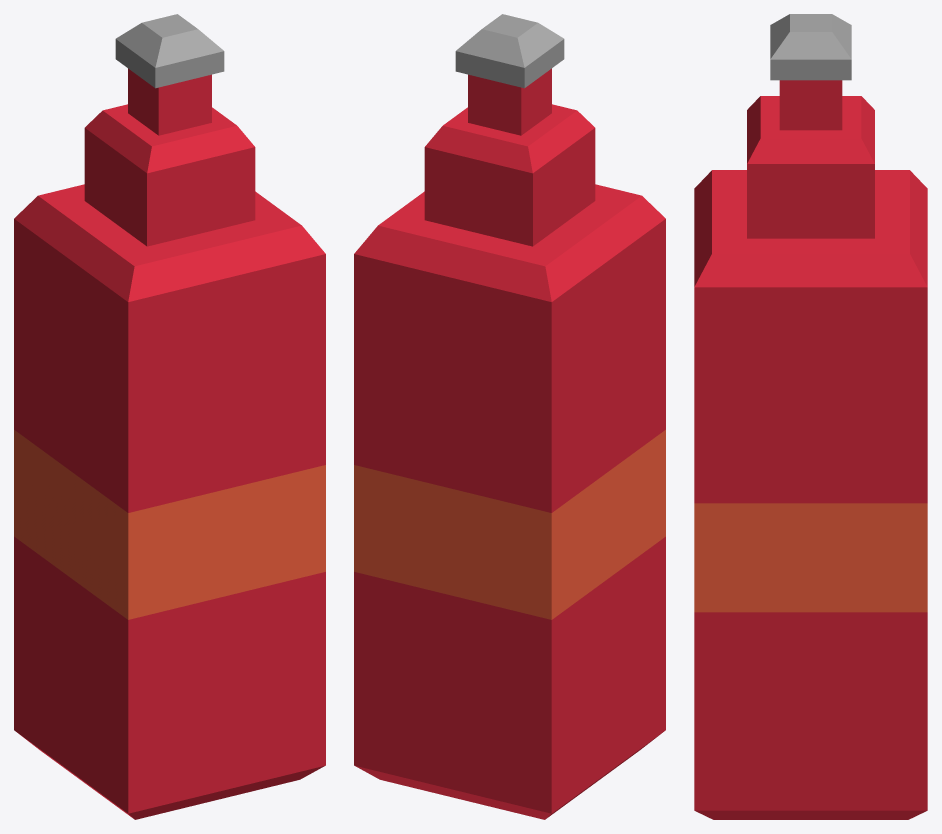
File: bottle_custom.glb
The picture shows the model from 3 angles, left to right: view 1: azimuth 30°, elevation 25°; view 2: azimuth 150°, elevation 25°; view 3: azimuth 270°, elevation 25°; orthographic projection. The views are drawn at different scales.
Visible parts, largest first — view 1: bottle; view 2: bottle; view 3: bottle.
Boxes of the visible parts, bbox=[...] form: bottle: bbox=[14, 14, 325, 819]; bottle: bbox=[354, 14, 665, 819]; bottle: bbox=[694, 14, 927, 819].
Bounding box in the file's own units: 0.293 × 1.05 × 0.293.
